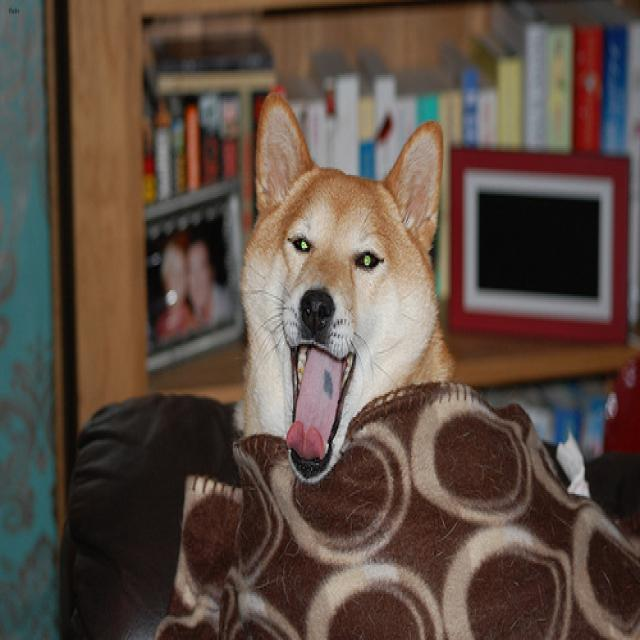dog-shiba_inu: (230, 83, 477, 490)
